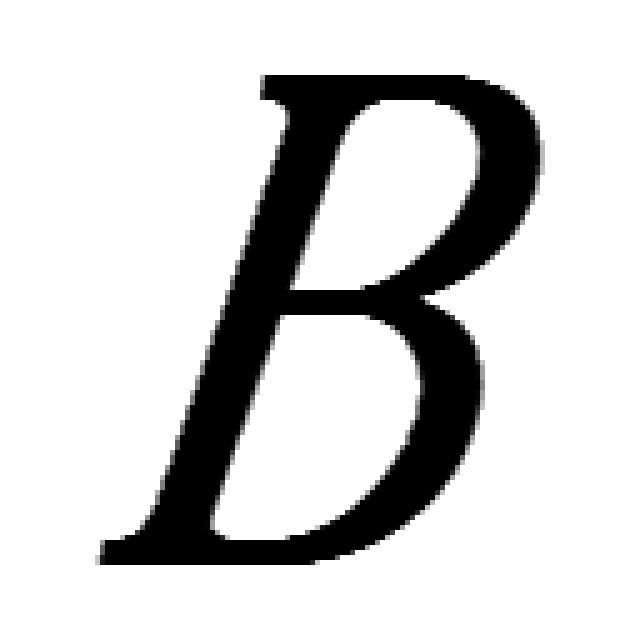B: (95, 75, 545, 570)
